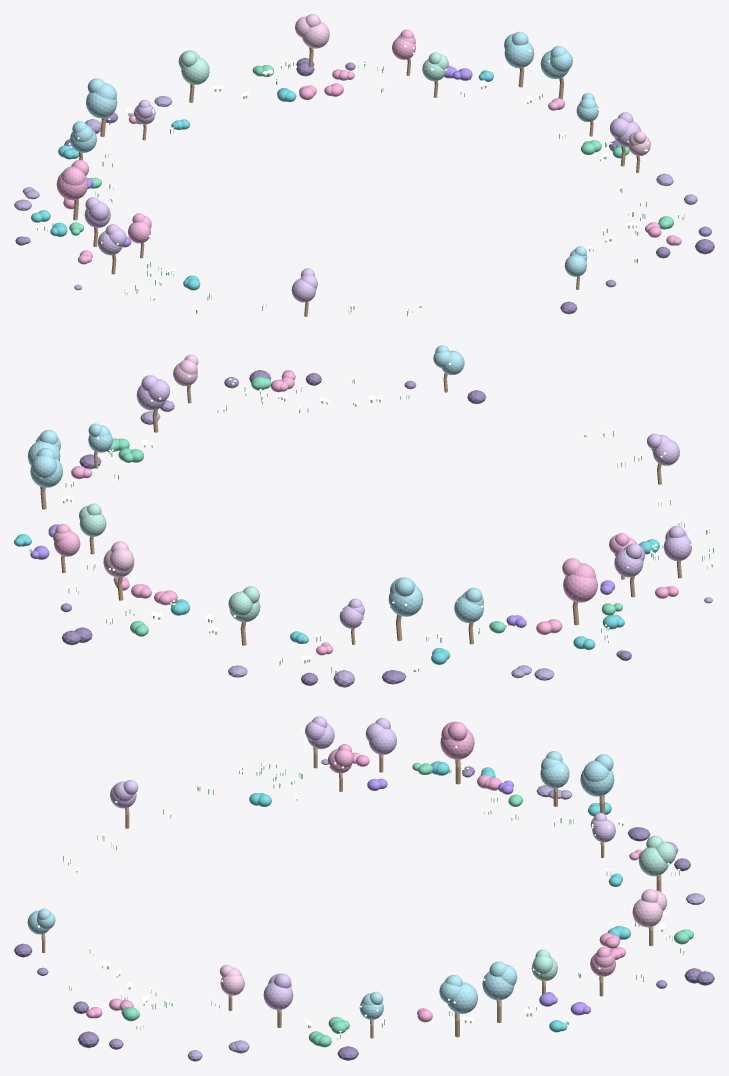
File: main-garden.glb
3 renders of one model, top to bottom at view 1: azimuth 30°, elevation 25°; view 2: azimuth 150°, elevation 25°; view 3: azimuth 270°, elevation 25°, orthographic. The views are drawn at different scales.
Parts seen in each view (by area): view 1: main-garden_3, main-garden_1, main-garden_4, main-garden_8, main-garden_0, main-garden_5, main-garden_7, main-garden_6, main-garden_23, main-garden_9, main-garden_21, main-garden_11; view 2: main-garden_3, main-garden_1, main-garden_4, main-garden_8, main-garden_23, main-garden_5, main-garden_0, main-garden_7, main-garden_6, main-garden_9, main-garden_21, main-garden_10 (+1 smaller); view 3: main-garden_3, main-garden_1, main-garden_4, main-garden_23, main-garden_5, main-garden_0, main-garden_6, main-garden_8, main-garden_7, main-garden_9, main-garden_21, main-garden_10 (+1 smaller).
Boxes of the visible parts, bbox=[...] form: main-garden_3: bbox=[70, 31, 598, 276]; main-garden_1: bbox=[84, 99, 640, 302]; main-garden_4: bbox=[56, 29, 415, 243]; main-garden_8: bbox=[63, 69, 681, 264]; main-garden_0: bbox=[73, 47, 640, 316]; main-garden_5: bbox=[178, 50, 448, 84]; main-garden_7: bbox=[31, 70, 493, 290]; main-garden_6: bbox=[295, 14, 650, 155]; main-garden_23: bbox=[15, 57, 714, 314]; main-garden_9: bbox=[69, 65, 673, 235]; main-garden_21: bbox=[14, 96, 697, 290]; main-garden_11: bbox=[37, 61, 684, 316]; main-garden_3: bbox=[27, 345, 483, 623]; main-garden_1: bbox=[136, 375, 691, 628]; main-garden_4: bbox=[53, 524, 637, 602]; main-garden_8: bbox=[71, 370, 678, 655]; main-garden_23: bbox=[62, 370, 631, 685]; main-garden_5: bbox=[79, 503, 260, 622]; main-garden_0: bbox=[40, 373, 681, 645]; main-garden_7: bbox=[14, 534, 659, 664]; main-garden_6: bbox=[103, 354, 198, 577]; main-garden_9: bbox=[106, 376, 622, 636]; main-garden_21: bbox=[140, 400, 712, 687]; main-garden_10: bbox=[30, 524, 615, 627]; main-garden_3: bbox=[27, 751, 614, 1019]; main-garden_1: bbox=[110, 716, 615, 1009]; main-garden_4: bbox=[327, 721, 615, 976]; main-garden_23: bbox=[14, 766, 714, 1060]; main-garden_5: bbox=[531, 835, 676, 981]; main-garden_0: bbox=[41, 747, 661, 1038]; main-garden_6: bbox=[219, 889, 667, 995]; main-garden_8: bbox=[86, 752, 642, 1022]; main-garden_7: bbox=[249, 761, 630, 1032]; main-garden_9: bbox=[121, 762, 693, 1047]; main-garden_21: bbox=[187, 759, 705, 1061]; main-garden_10: bbox=[367, 778, 590, 1015].
Size of the model in its own units: 49.68 by 7.56 by 49.57.
